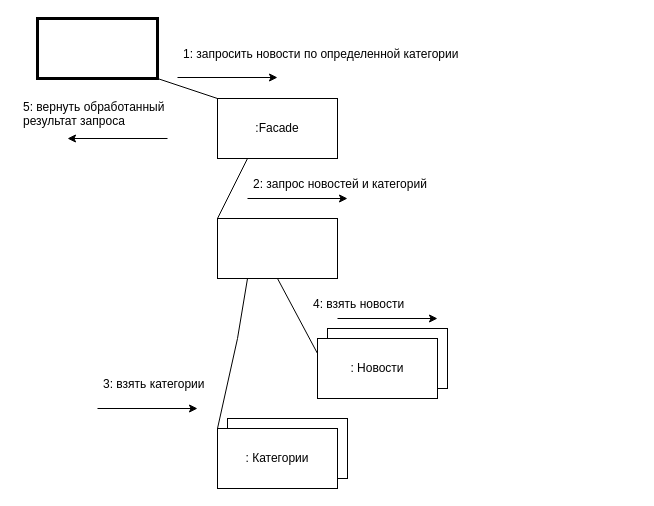
The diagram is 654 pixels wide and 506 high, and some of its shapes have lost their labels. Each missing label, with the centre of its shape:
": Сервер Баз Данных" goes at point (277, 248).
": Читатель" goes at point (97, 48).
